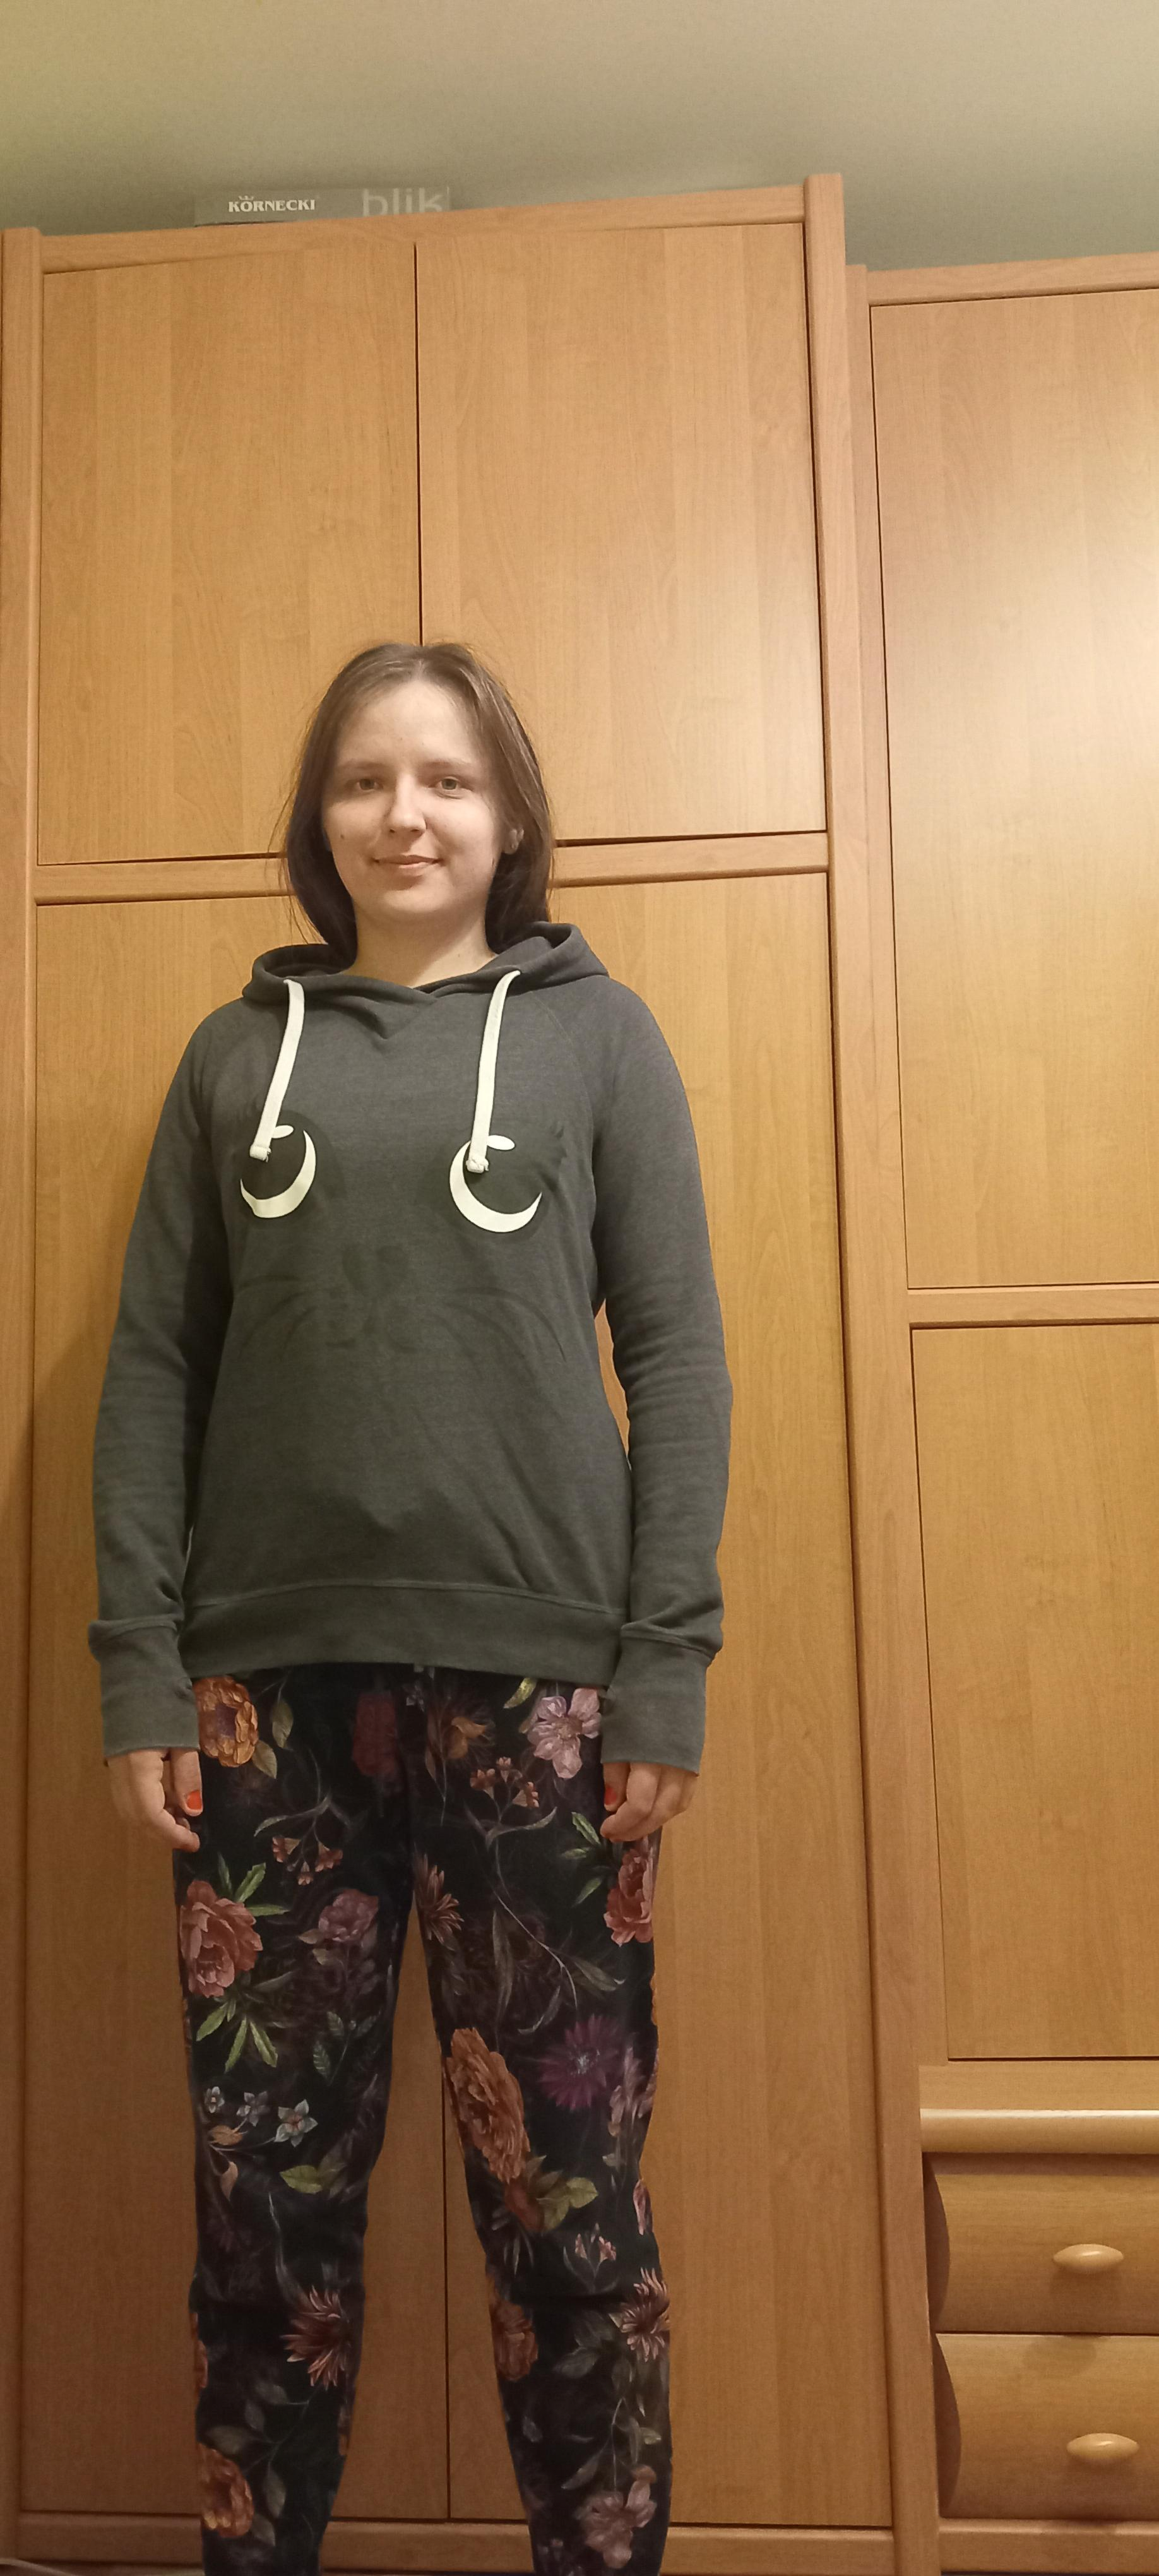pants: (158, 1664, 675, 2576)
sweater: (85, 920, 735, 1776)
